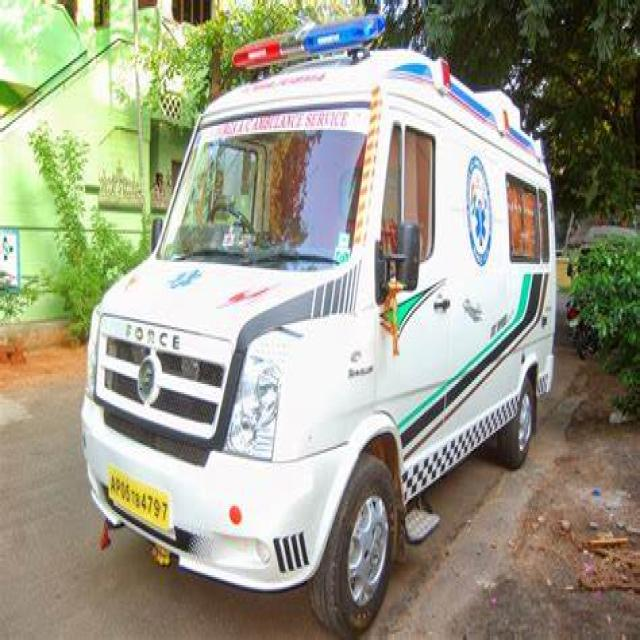ambulance: (218, 7, 387, 83)
